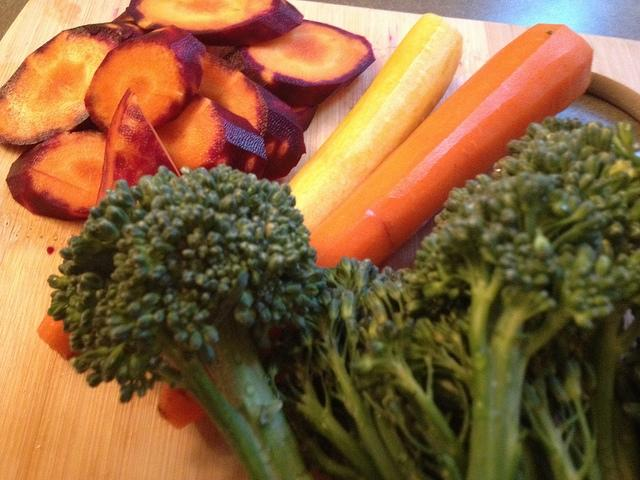broccoli: (48, 163, 328, 478), (397, 164, 638, 478), (495, 116, 640, 480), (264, 257, 442, 480), (351, 313, 468, 480), (522, 358, 603, 480)
carrot: (158, 23, 594, 430), (38, 13, 464, 360)
